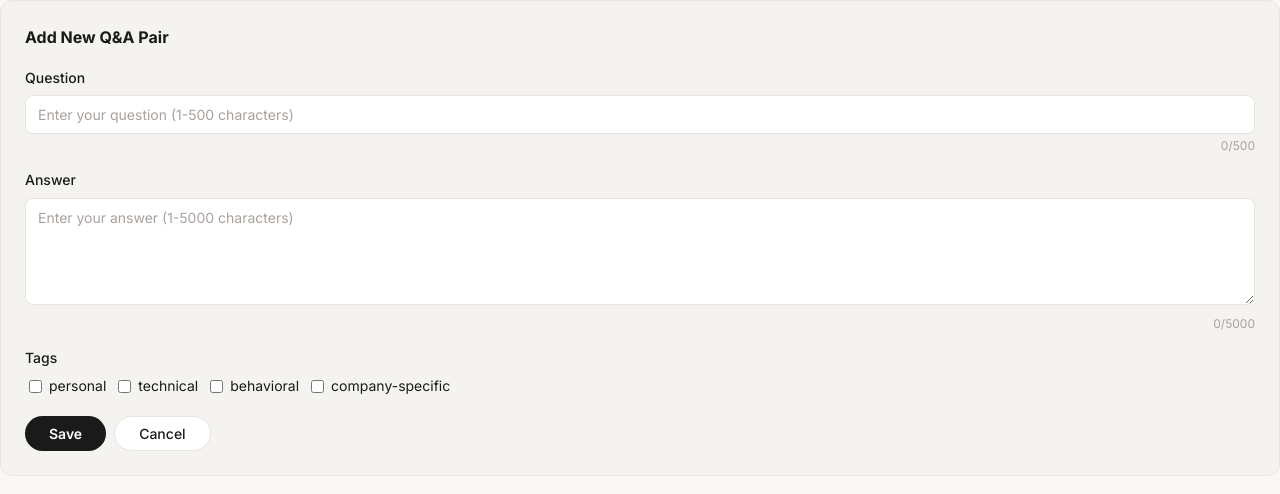
Test case: QAForm › shows validation error when question is empty
Type "Some answer" into the text box labelled "Answer" at (640, 251), box [25,198,1255,305]
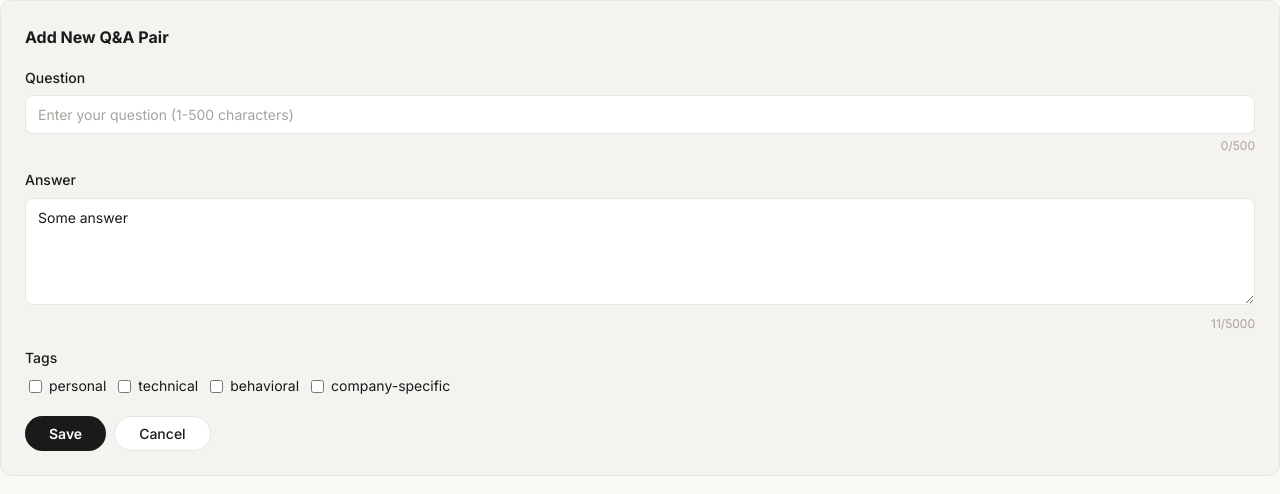
Click the button "Save" at (66, 433), box [25,416,106,450]
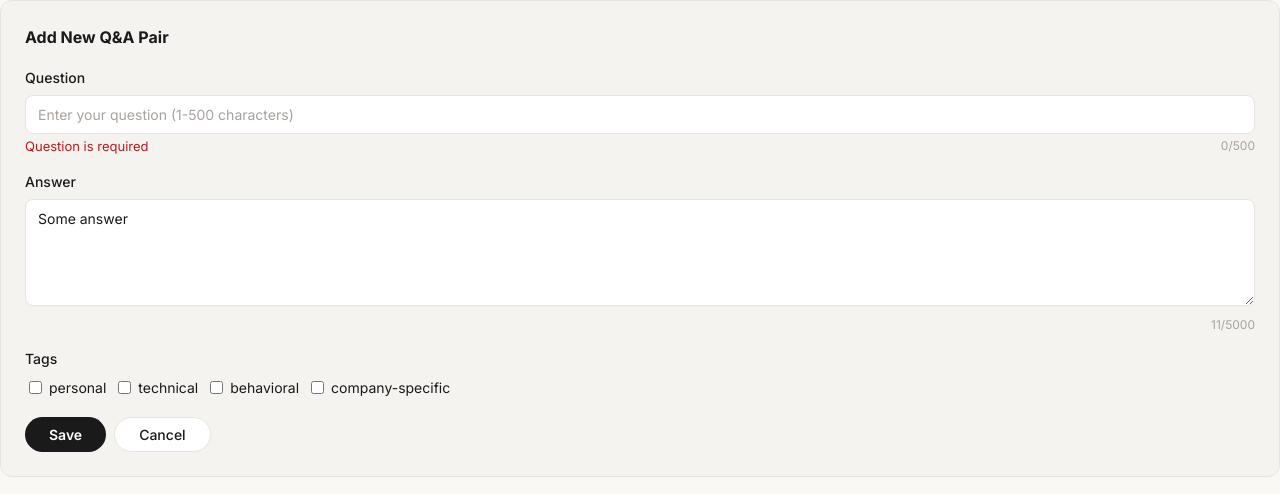
Now the text "Question is required" is shown, box [25,136,148,157]
